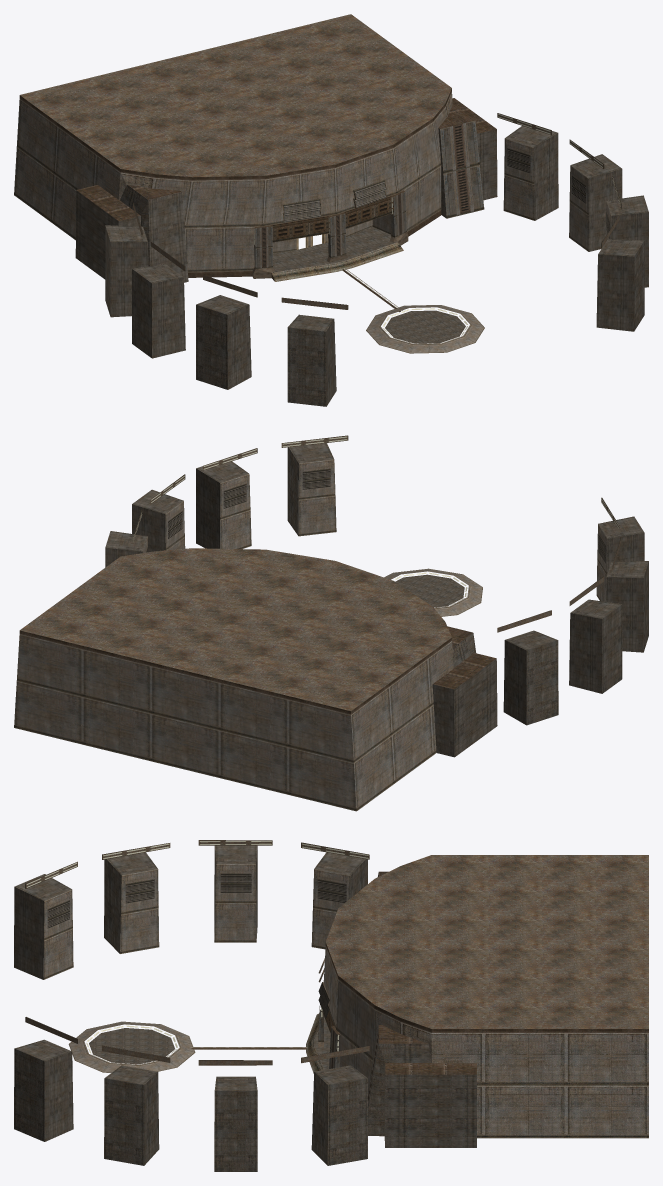
File: thm_lok_nyms_stronghold_r0_mesh_l3.fbx
3 views of the same model, one above another, from view 1: azimuth 30°, elevation 25°; view 2: azimuth 150°, elevation 25°; view 3: azimuth 270°, elevation 25° (orthographic). The views are drawn at different scales.
Parts seen in each view (by area): view 1: mesh_node; view 2: mesh_node; view 3: mesh_node.
Part boxes in pixels (box(x1,y1,x2,y2)): mesh_node: box(14, 14, 648, 406); mesh_node: box(14, 435, 648, 811); mesh_node: box(14, 840, 648, 1171).
Size of the model in its own units: 109 by 21.84 by 118.
